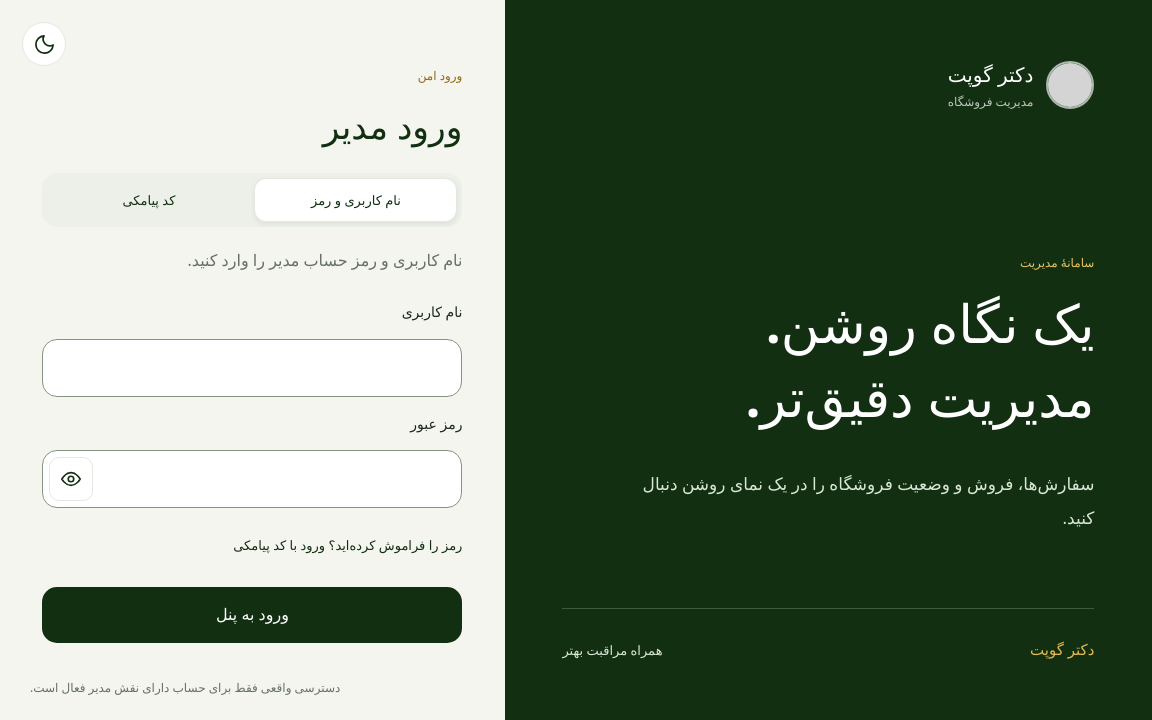
Test: requires OTP and refuses a non-admin identity
Click the button "کد پیامکی" at (149, 200), box x1=47 y1=178 x2=250 y2=222
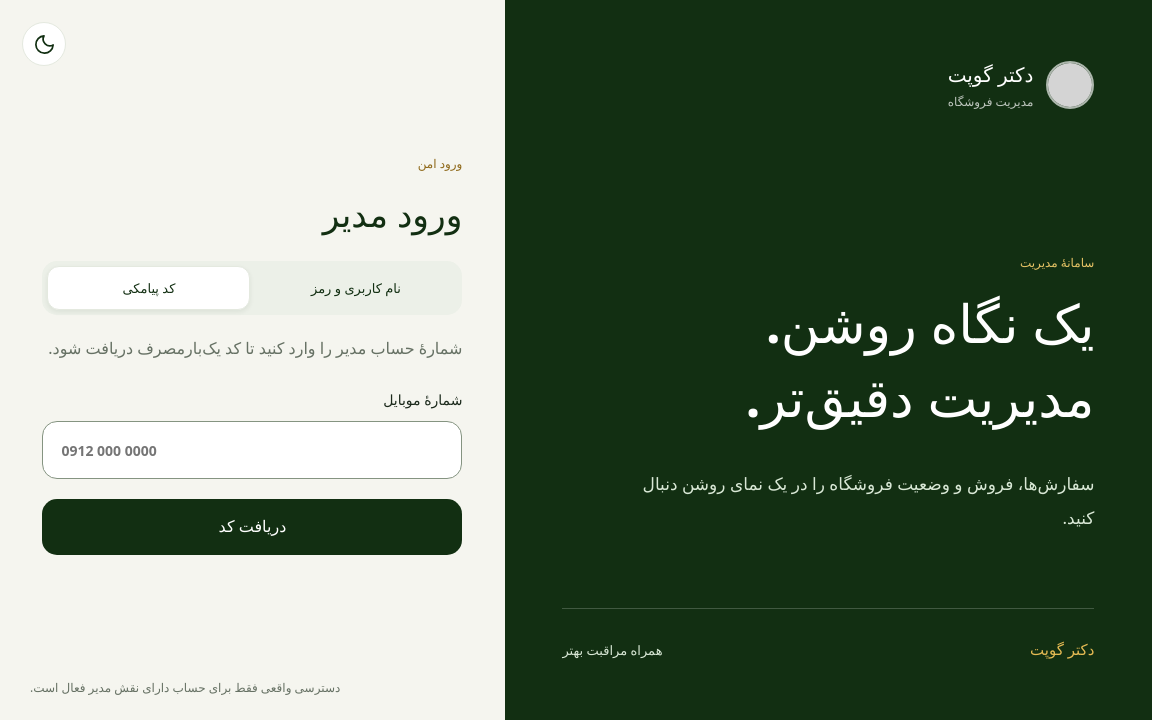
Type "۰۹۱۲۰۰۰۰۰۰۰" into the field labelled "شمارهٔ موبایل" at (252, 450), box x1=42 y1=422 x2=462 y2=480
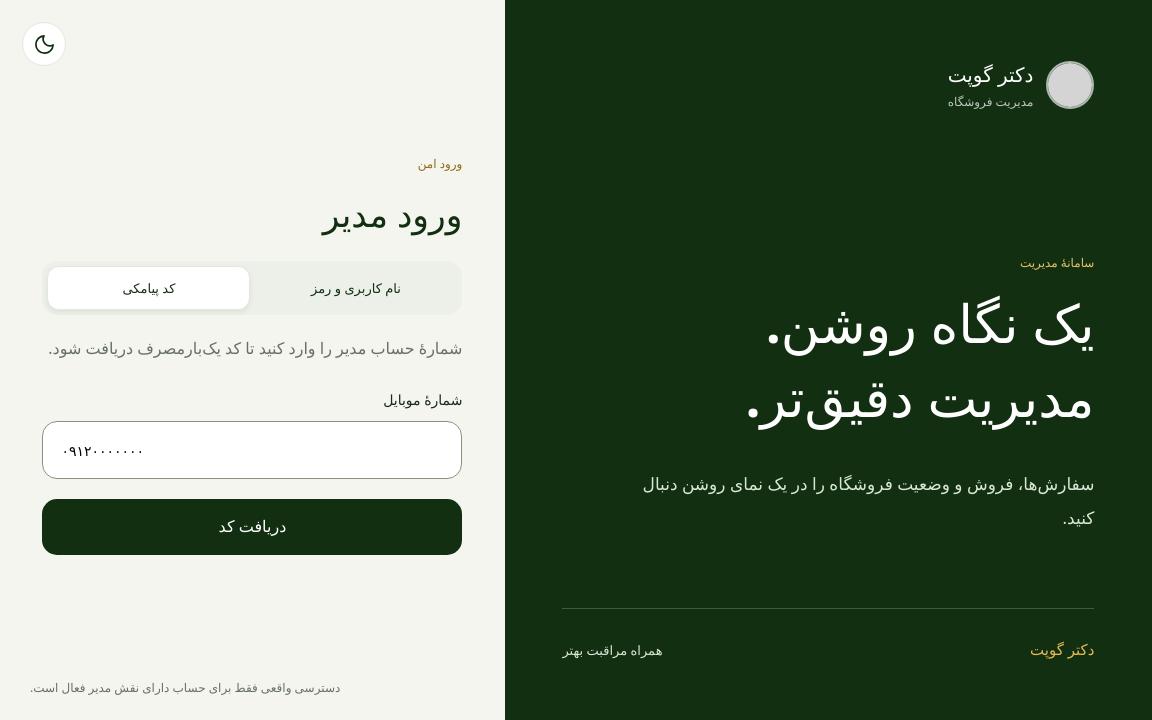
Click the button "دریافت کد" at (252, 527), box x1=42 y1=500 x2=462 y2=555
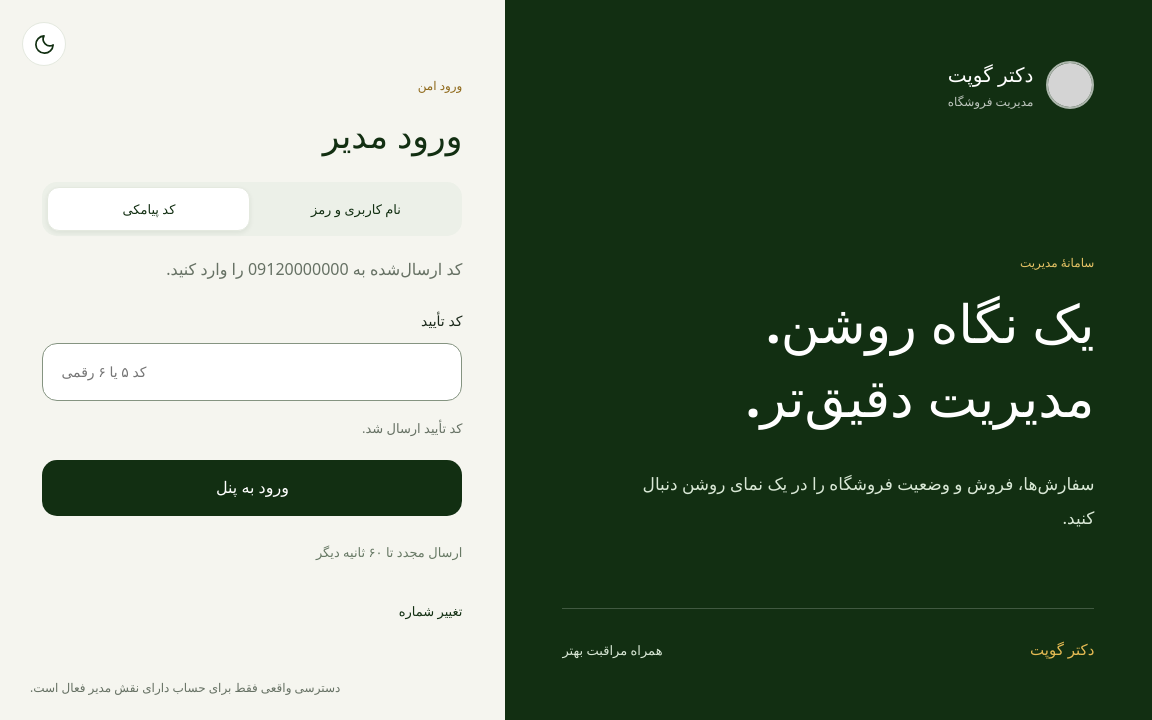
Expected: the field labelled "کد تأیید" is shown
Type "۱۲۳۴۵" into the field labelled "کد تأیید" at (252, 372), box x1=42 y1=343 x2=462 y2=401
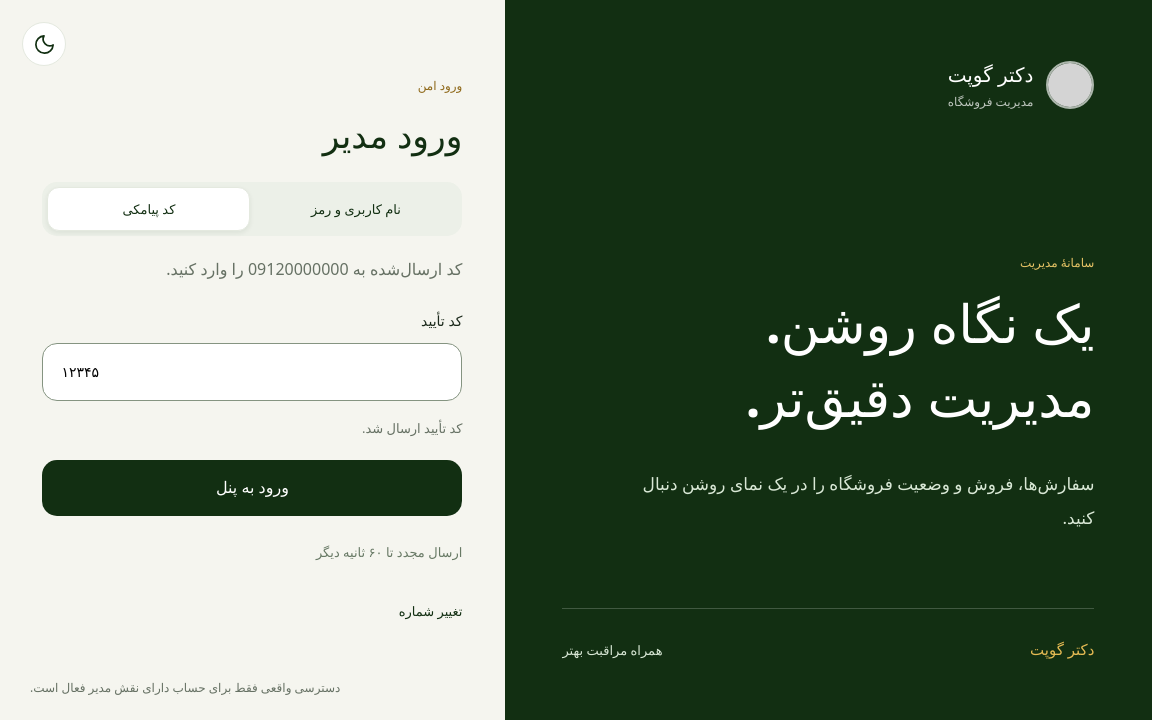
Click the button "ورود به پنل" at (252, 488), box x1=42 y1=460 x2=462 y2=516
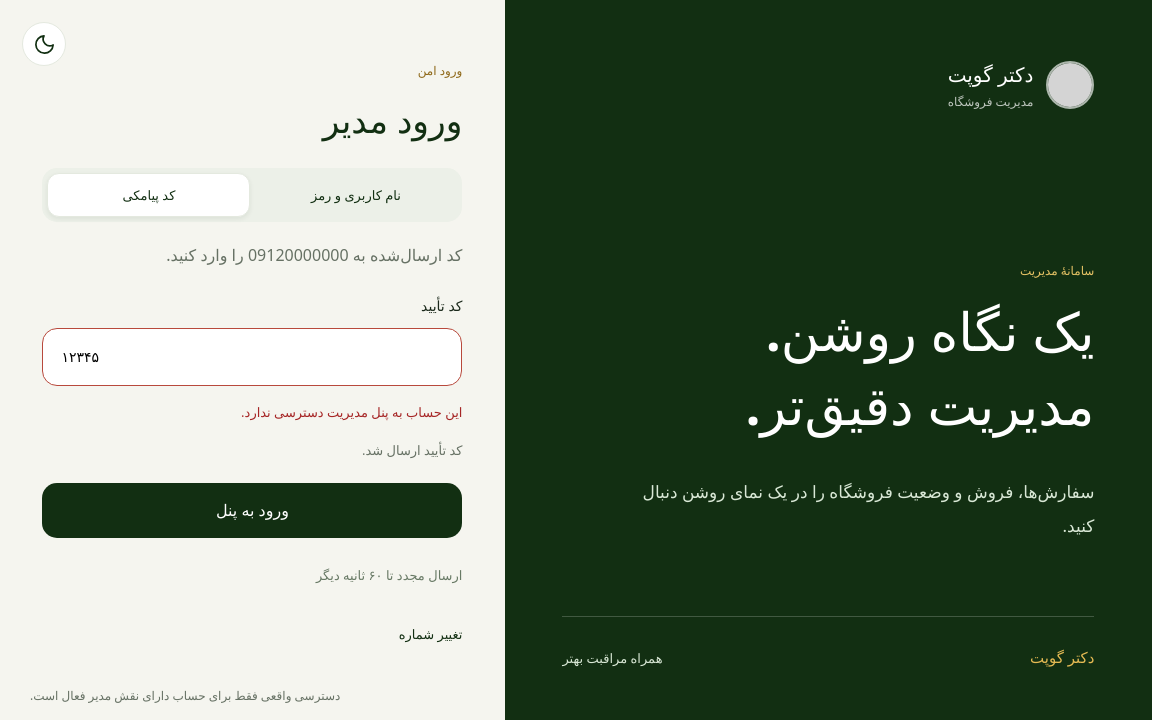
Expected: the heading "ورود مدیر" is shown, x1=323 y1=96 x2=462 y2=143
Expected: the message "این حساب به پنل مدیریت دسترسی ندارد." is shown, x1=241 y1=403 x2=462 y2=421
